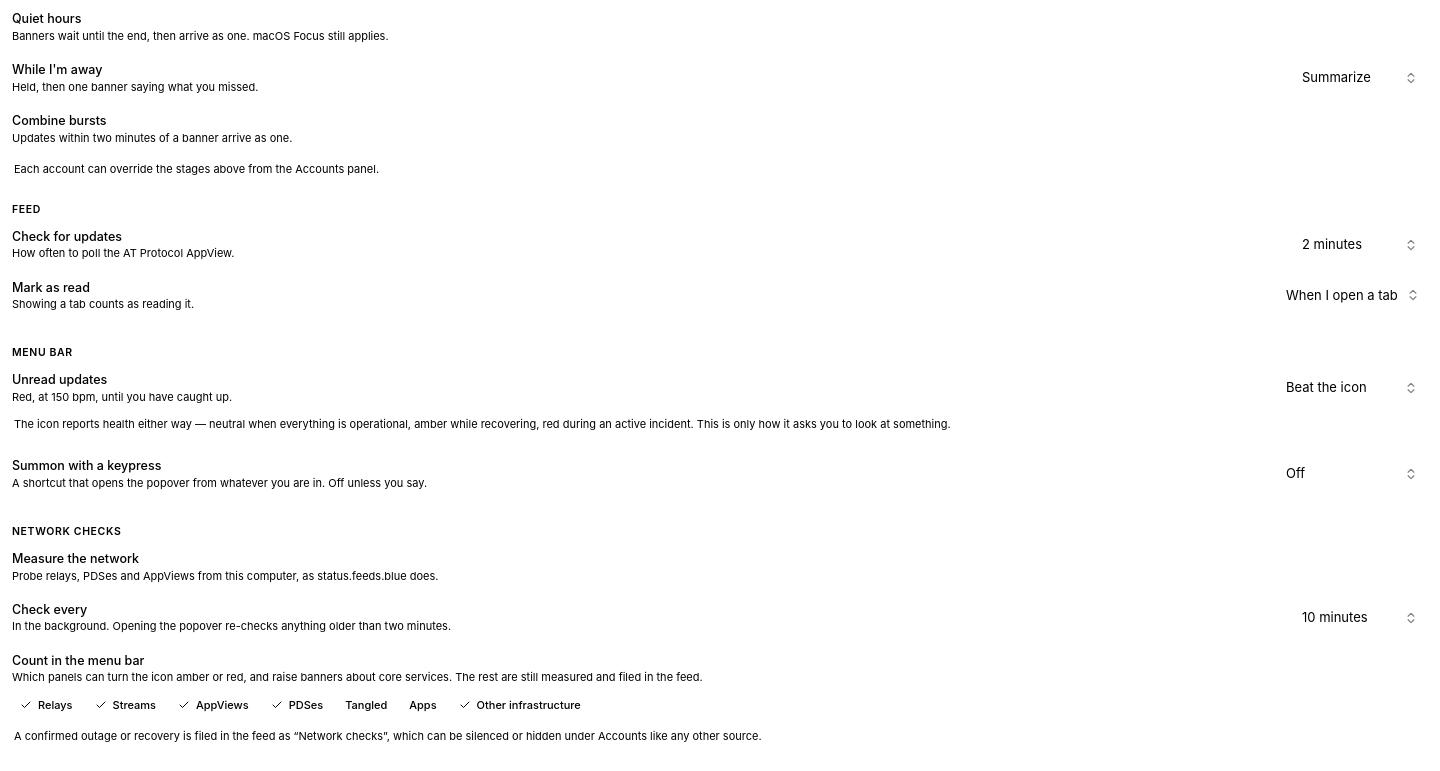
Test: the menu bar settings › offers every way the icon can announce unread updates
The width and height of the screenshot is (1440, 771).
(page scrolled)
Press the mouse on the button "Beat the icon": (1352,388) [1276,372,1428,404]
(page scrolled)
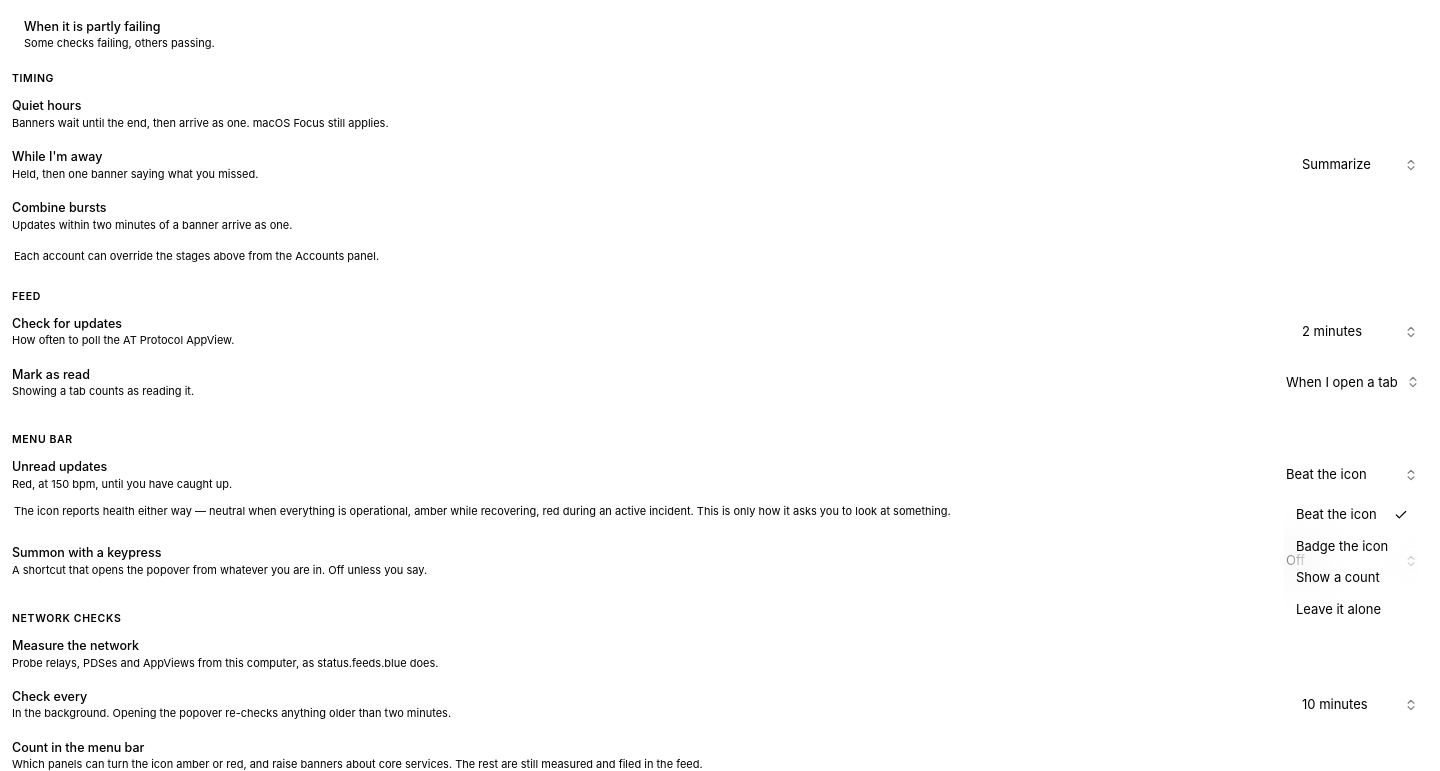
Now the list shows "Beat the icon", box [1296,506,1377,522]
Now the list shows "Badge the icon", box [1296,538,1388,554]
Now the list shows "Show a count", box [1296,569,1380,585]
